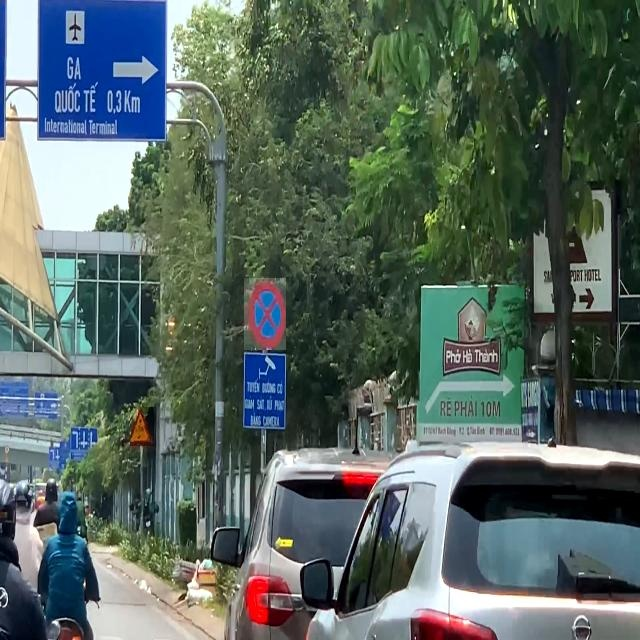bien_cam: (244, 278, 286, 350), (130, 407, 154, 446)
